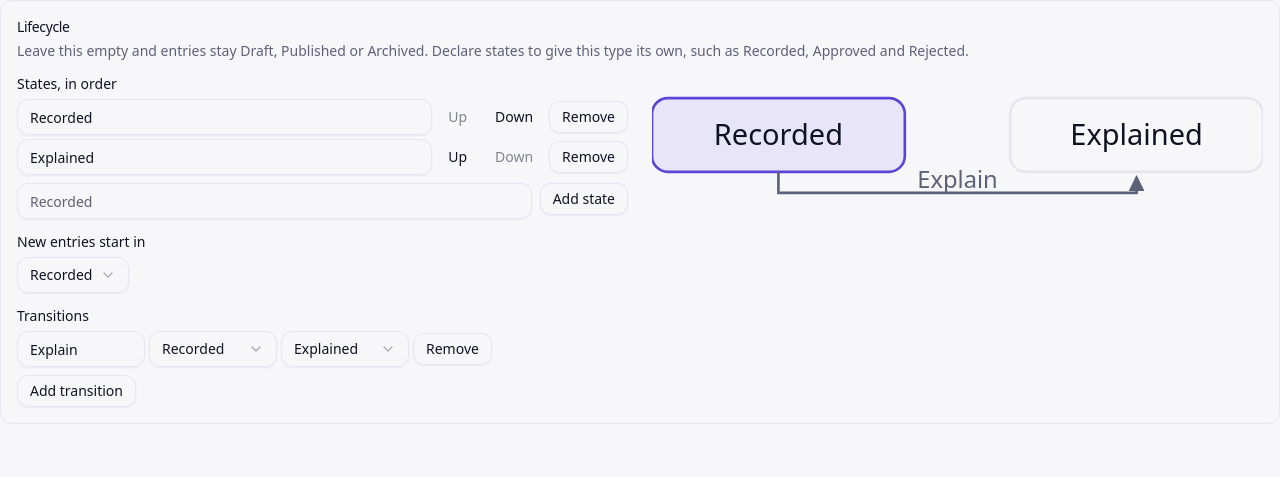
it: LifecycleEditor › refuses to remove a state a transition uses
The image size is (1280, 477).
Click the button with aria-label "Remove state Explained": (589, 157) [549,141,628,173]
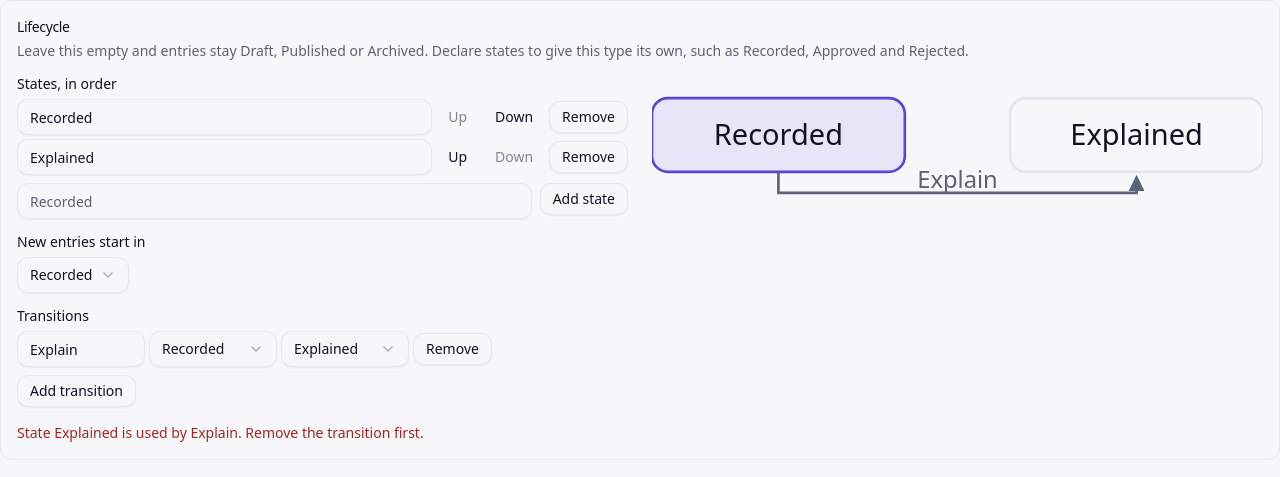
Expected: the message shows "State Explained is used by Explain.", [17,423,424,442]
